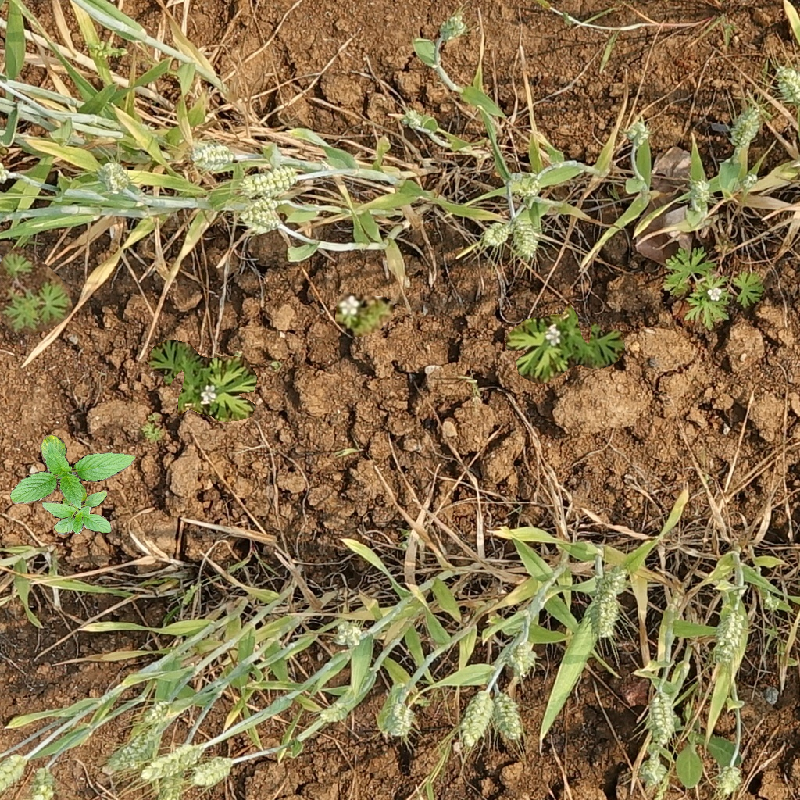spikelet: (662, 242, 762, 325), (103, 718, 166, 774), (709, 588, 751, 664), (139, 738, 204, 783), (237, 161, 302, 197), (458, 687, 494, 748), (645, 689, 678, 749), (189, 752, 237, 790), (236, 198, 285, 235), (91, 155, 133, 197), (586, 591, 621, 640), (727, 103, 764, 149), (187, 138, 237, 172), (492, 691, 525, 742), (510, 209, 542, 259), (1, 748, 30, 799), (505, 636, 537, 680), (378, 701, 414, 738), (23, 763, 58, 799), (594, 564, 630, 598), (478, 217, 514, 249), (140, 695, 176, 727), (713, 763, 744, 799), (505, 169, 542, 199), (332, 618, 367, 649), (775, 64, 800, 105), (638, 754, 668, 786), (686, 177, 713, 212), (154, 771, 187, 799), (437, 13, 467, 41), (624, 118, 651, 147)
weed: (12, 435, 139, 537), (147, 340, 258, 422), (506, 308, 633, 377), (1, 239, 73, 333), (676, 724, 738, 789), (334, 292, 394, 337)
